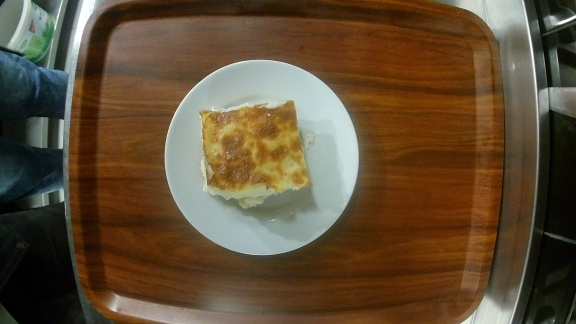firinmakarna: (165, 60, 360, 257), (165, 61, 360, 257)
